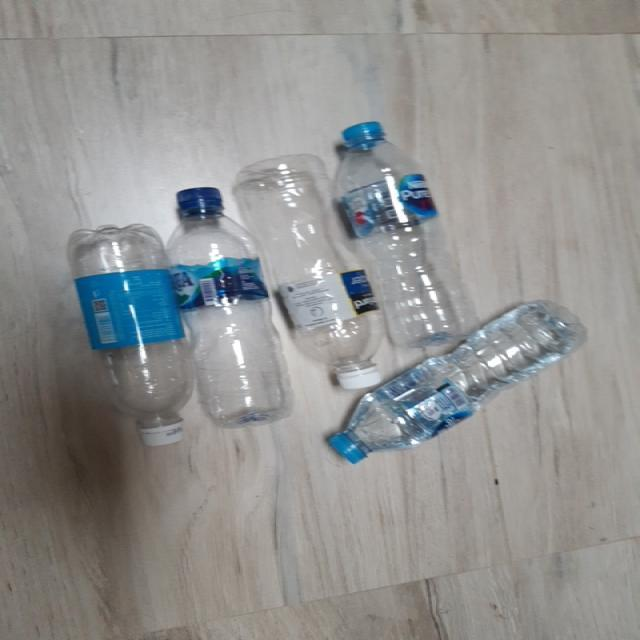PET Bottle: (316, 275, 602, 495), (222, 135, 401, 404), (321, 112, 477, 364), (152, 177, 298, 439), (64, 213, 214, 455)
